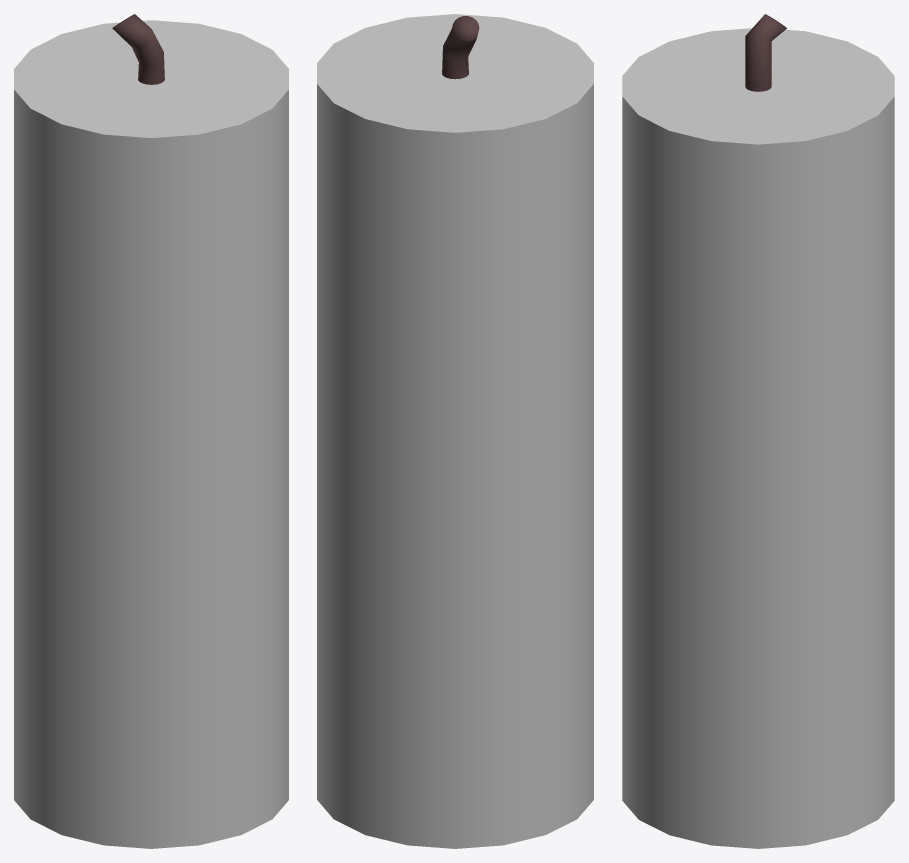
File: candle_long_02.FBX
3 renders of one model, left to right at view 1: azimuth 30°, elevation 25°; view 2: azimuth 150°, elevation 25°; view 3: azimuth 270°, elevation 25°, orthographic.
Visible parts, largest first — view 1: Cylinder008; view 2: Cylinder008; view 3: Cylinder008.
Part boxes in pixels (box(x1,y1,x2,y2)): Cylinder008: box(14, 14, 288, 848); Cylinder008: box(317, 14, 593, 848); Cylinder008: box(622, 14, 894, 848).
Bounding box in the file's own units: 8.98 × 27.48 × 8.84.
